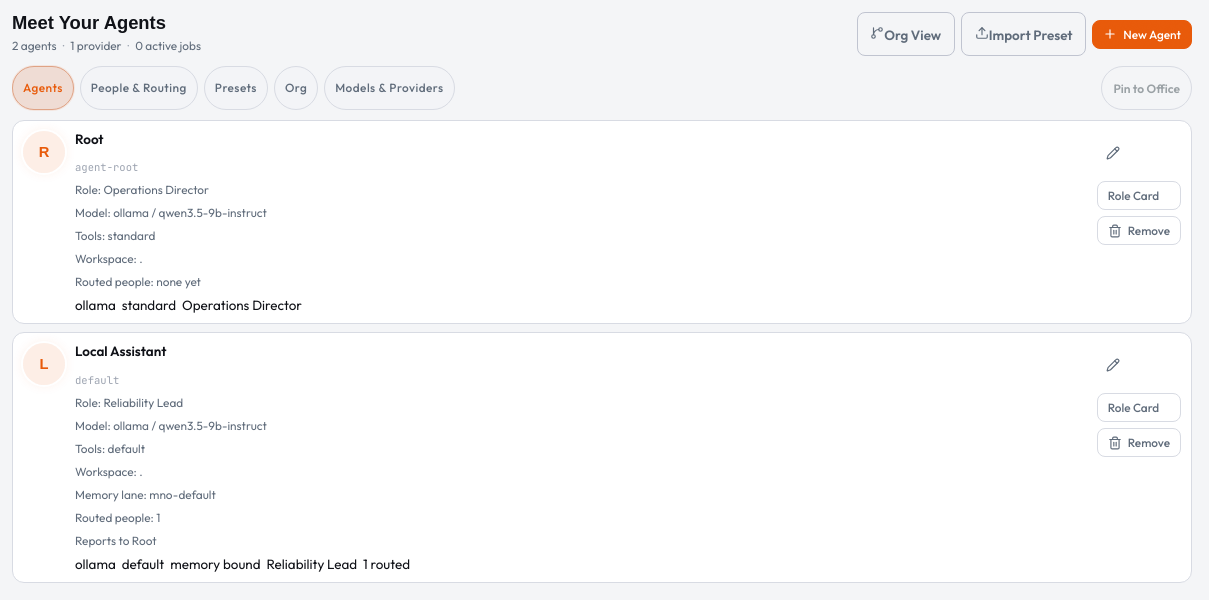
it: TeamPage Trenches parity › renders distinct content for the Team sections and pins without mutations
The image size is (1209, 600).
Expected: the number of elements with class "mc-team-card" is 2, [12, 120, 1192, 324]; [12, 332, 1192, 583]
Click the button "Presets": point(236, 88) [204, 66, 268, 110]
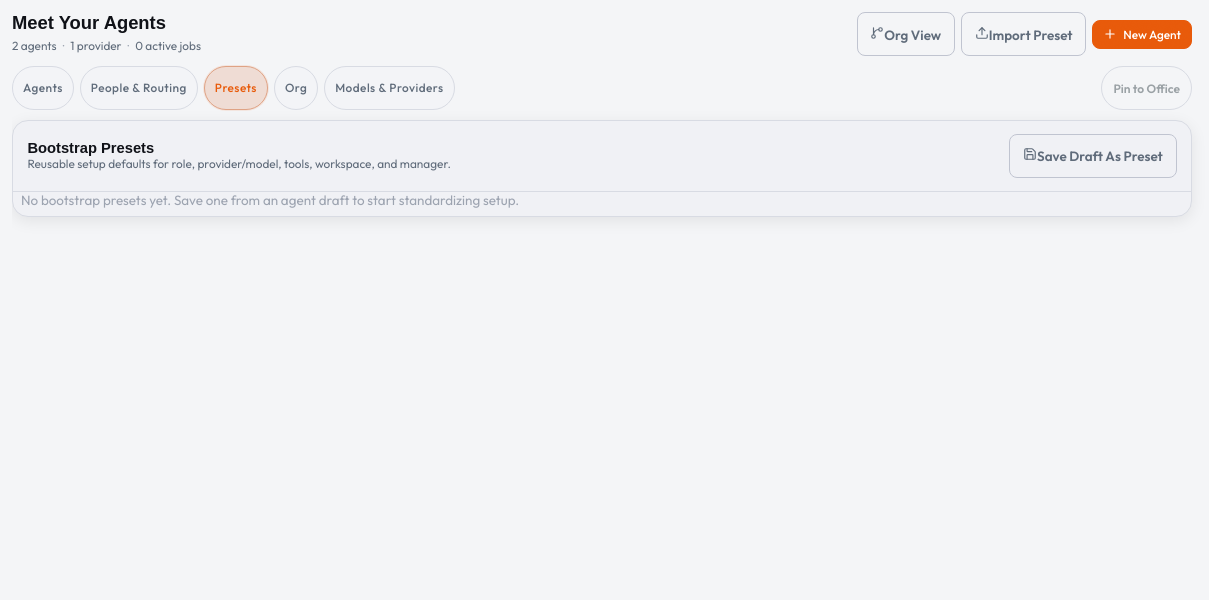
Result: the text "Bootstrap Presets" is shown at [27, 140, 154, 156]
Click the button "Org View": point(906, 34) [856, 12, 955, 56]
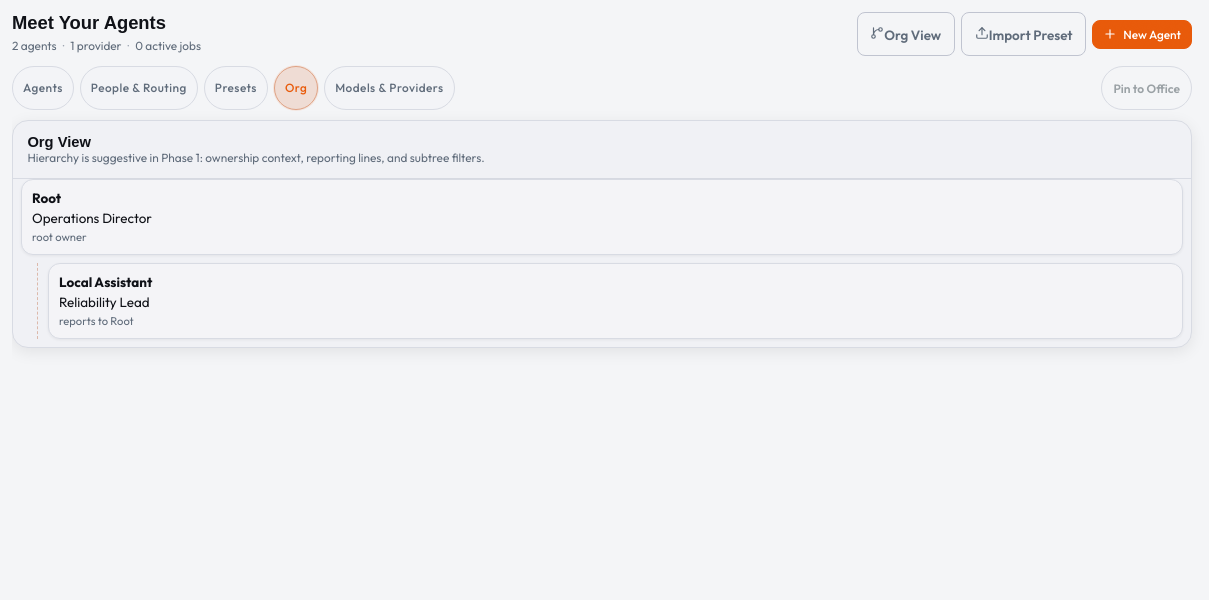
Result: the text "Local Assistant" is shown at [59, 274, 152, 290]
Click the button "Pin to Office": point(1147, 88) [1101, 66, 1192, 110]
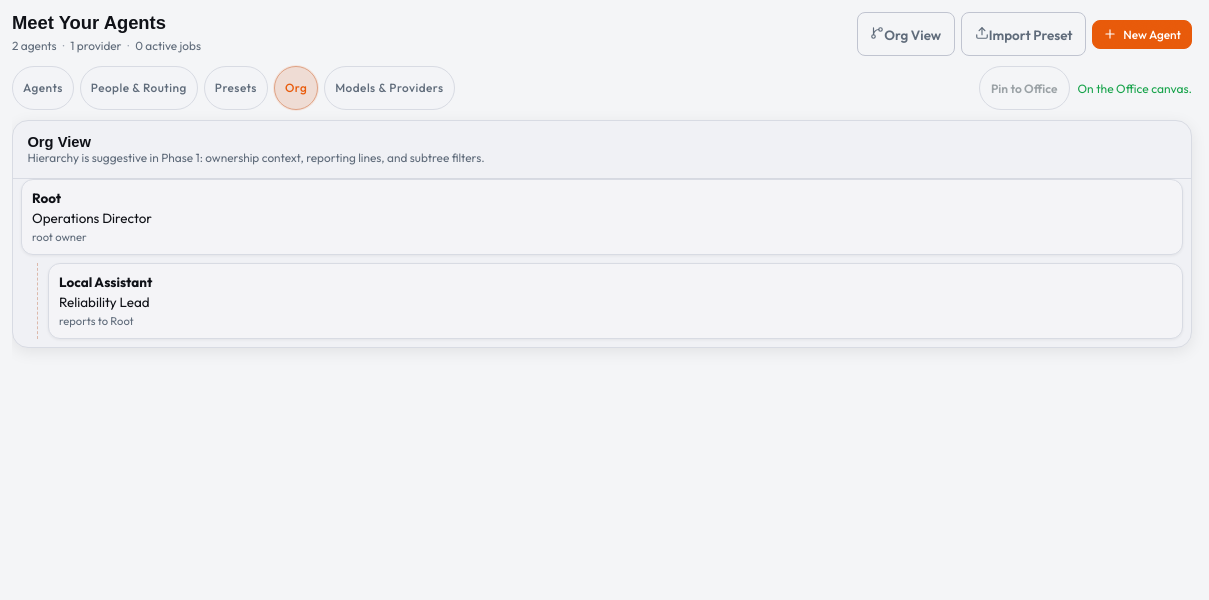
Result: the message "On the Office canvas." is shown at [1078, 80, 1192, 96]
